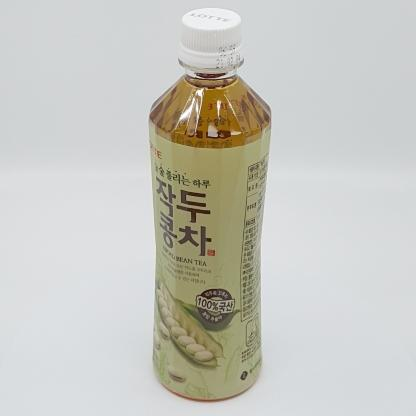--------------500ML: (148, 7, 271, 402)
